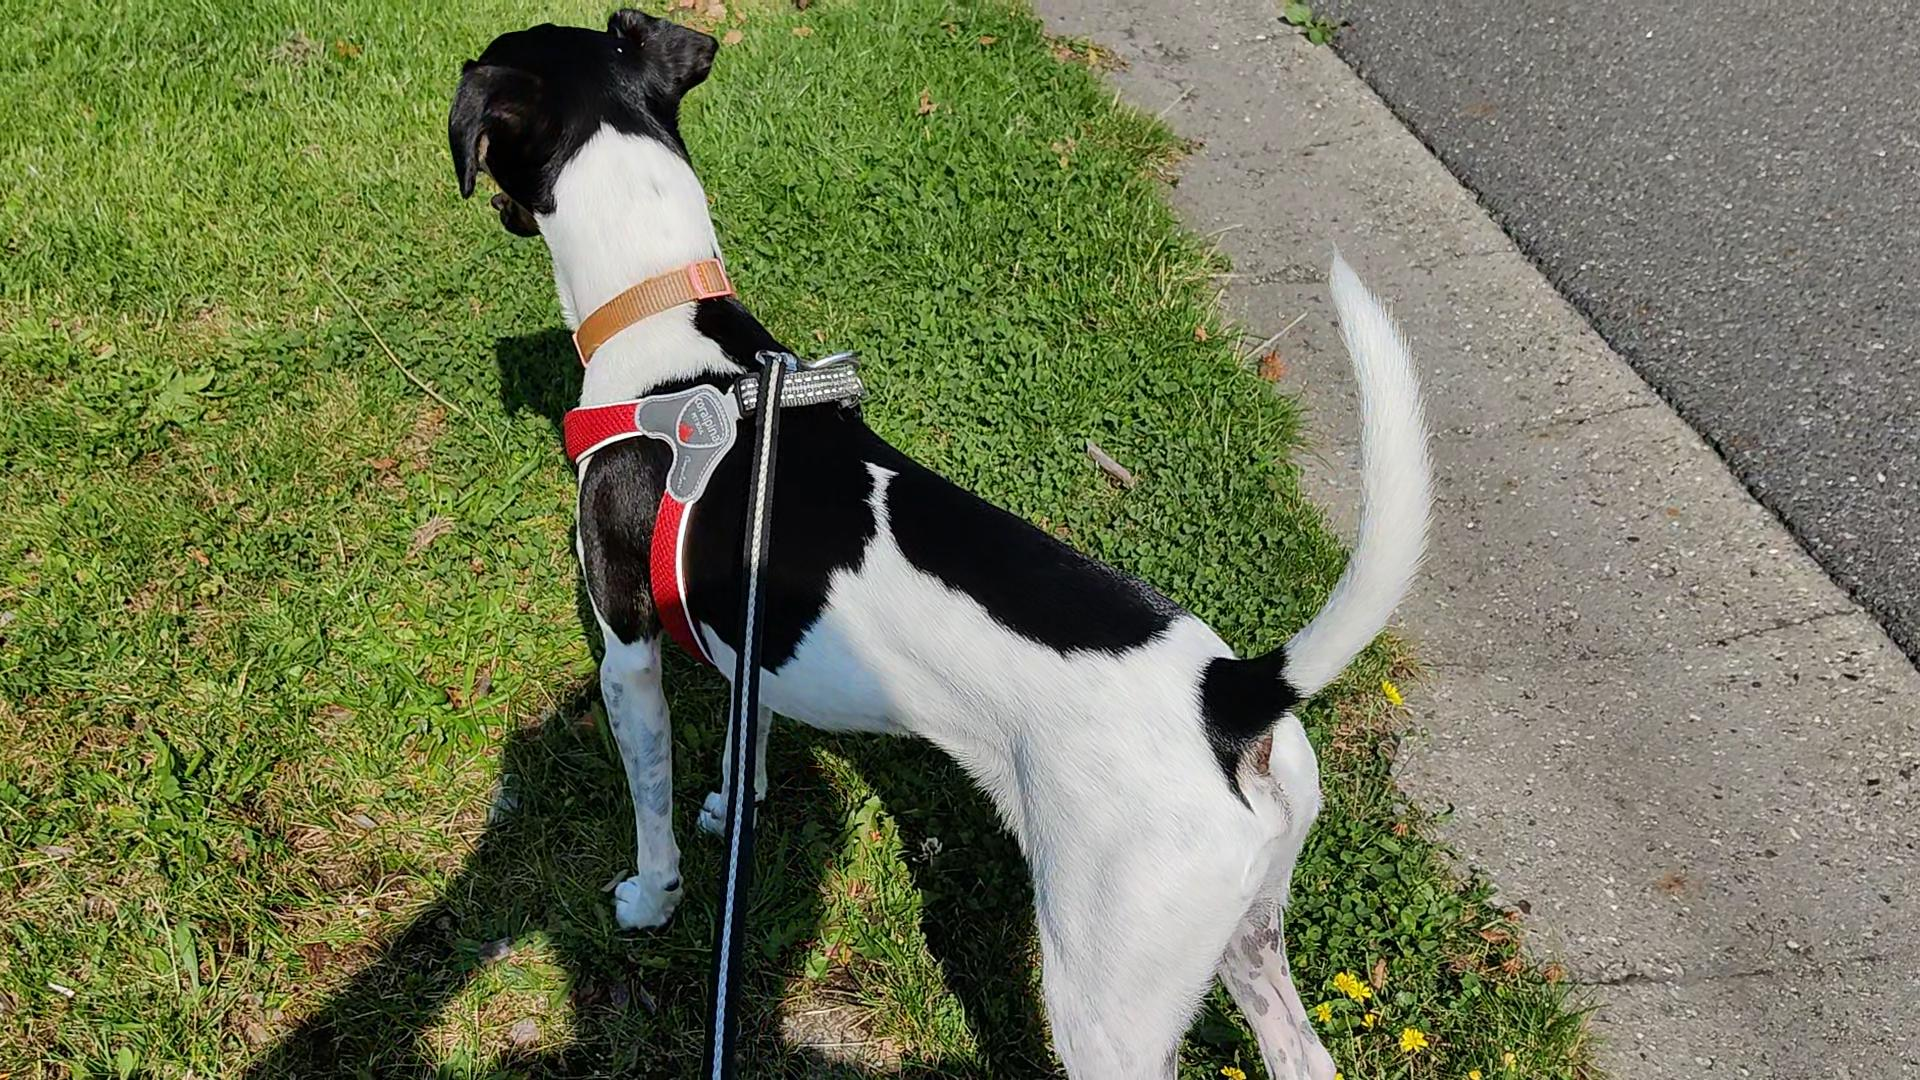Dog: (440, 0, 1441, 1079)
